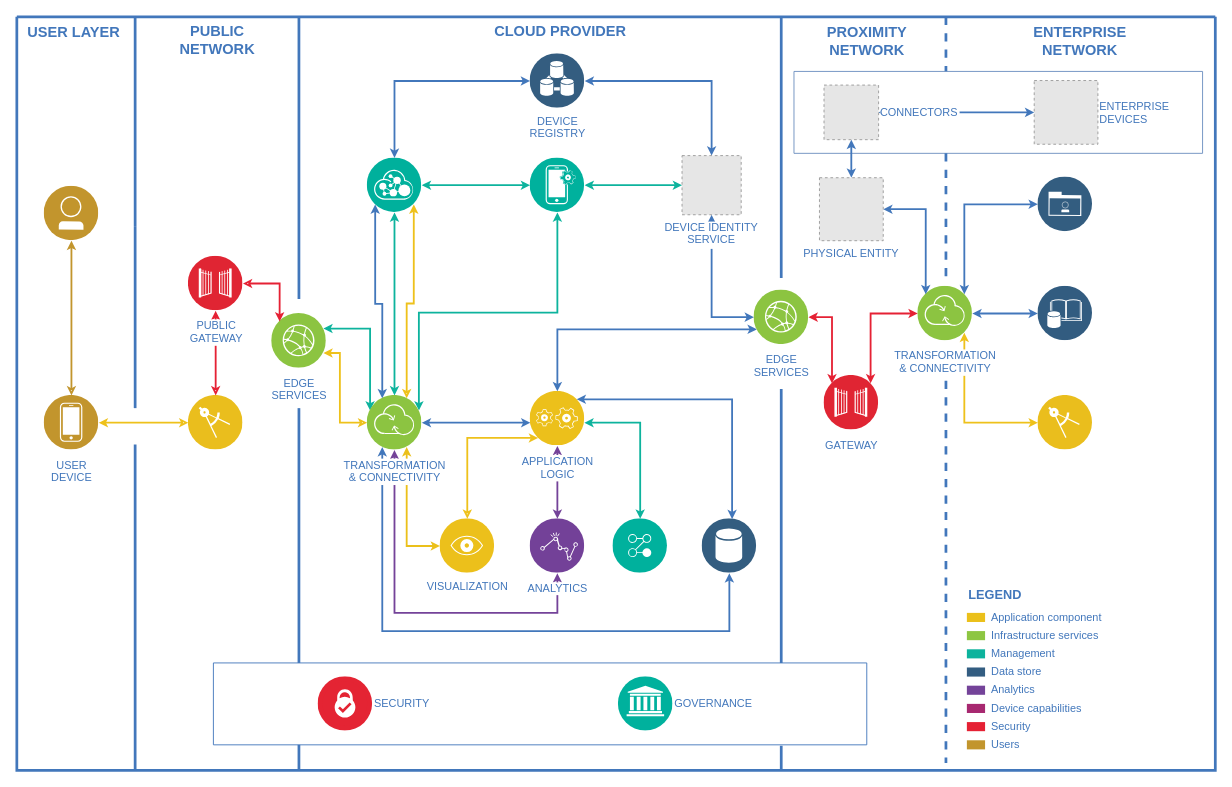
Image size: 1232x787. Some labels were removed from this diagram. Grey dashed boxes stand in for pictures. The box of each missing label's shape, as (x1, y1, x2, y2) in pixels:
API MANAGEMENT: (367, 157, 421, 212)
DEVICE DATA STORE: (702, 518, 756, 573)
DEVICE MANAGEMENT: (530, 157, 584, 212)
END USER APPLICATION: (188, 395, 243, 450)
ENTERPRISE APPLICATIONS: (1037, 395, 1092, 450)
ENTERPRISE DATA: (1037, 286, 1092, 340)
ENTERPRISE USER DIRECTORY: (1037, 177, 1092, 231)
PROCESS MANAGEMENT: (612, 518, 667, 573)
USER: (44, 186, 98, 240)
